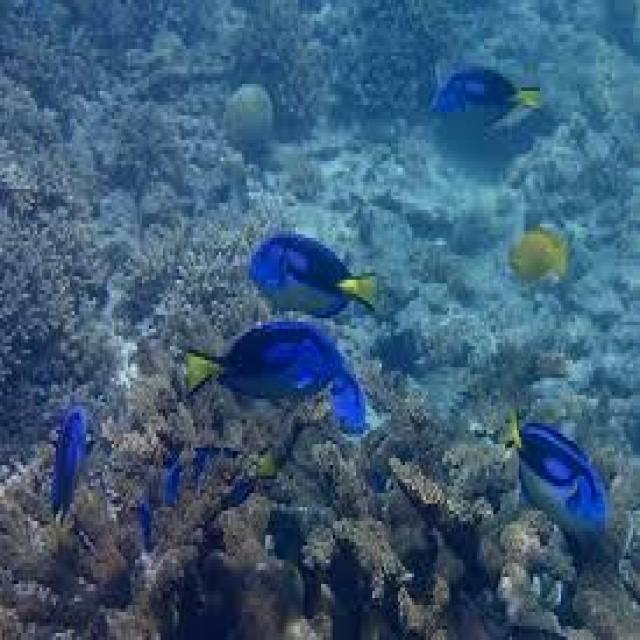TangFish: (172, 319, 350, 408), (498, 401, 609, 532), (243, 225, 379, 318), (430, 53, 542, 122)
